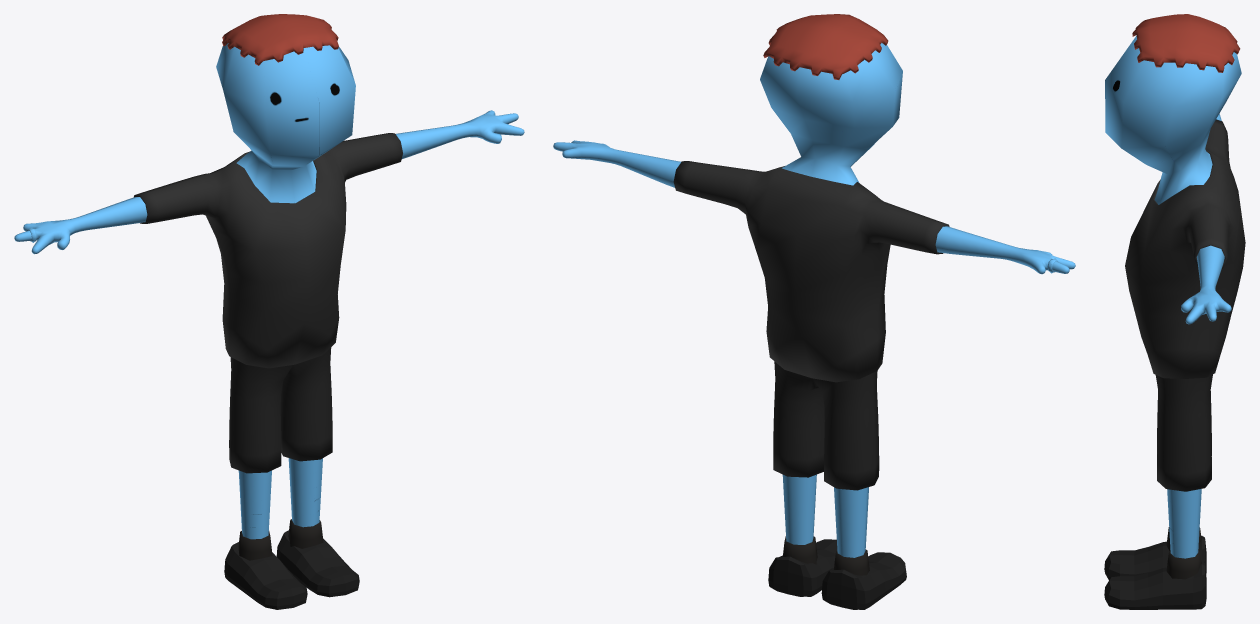
The model's file is manotest.glb.
The picture shows the model from 3 angles, left to right: view 1: azimuth 30°, elevation 25°; view 2: azimuth 150°, elevation 25°; view 3: azimuth 270°, elevation 25°; orthographic projection. The views are drawn at different scales.
Visible parts, largest first — view 1: ManoBake; view 2: ManoBake; view 3: ManoBake.
Boxes of the visible parts, box(x1,y1,x2,y2) form: ManoBake: box(14, 14, 524, 609); ManoBake: box(553, 14, 1075, 609); ManoBake: box(1104, 14, 1245, 609).
Size of the model in its own units: 1.66 by 1.76 by 0.3978.
7 materials, 1 textured.
